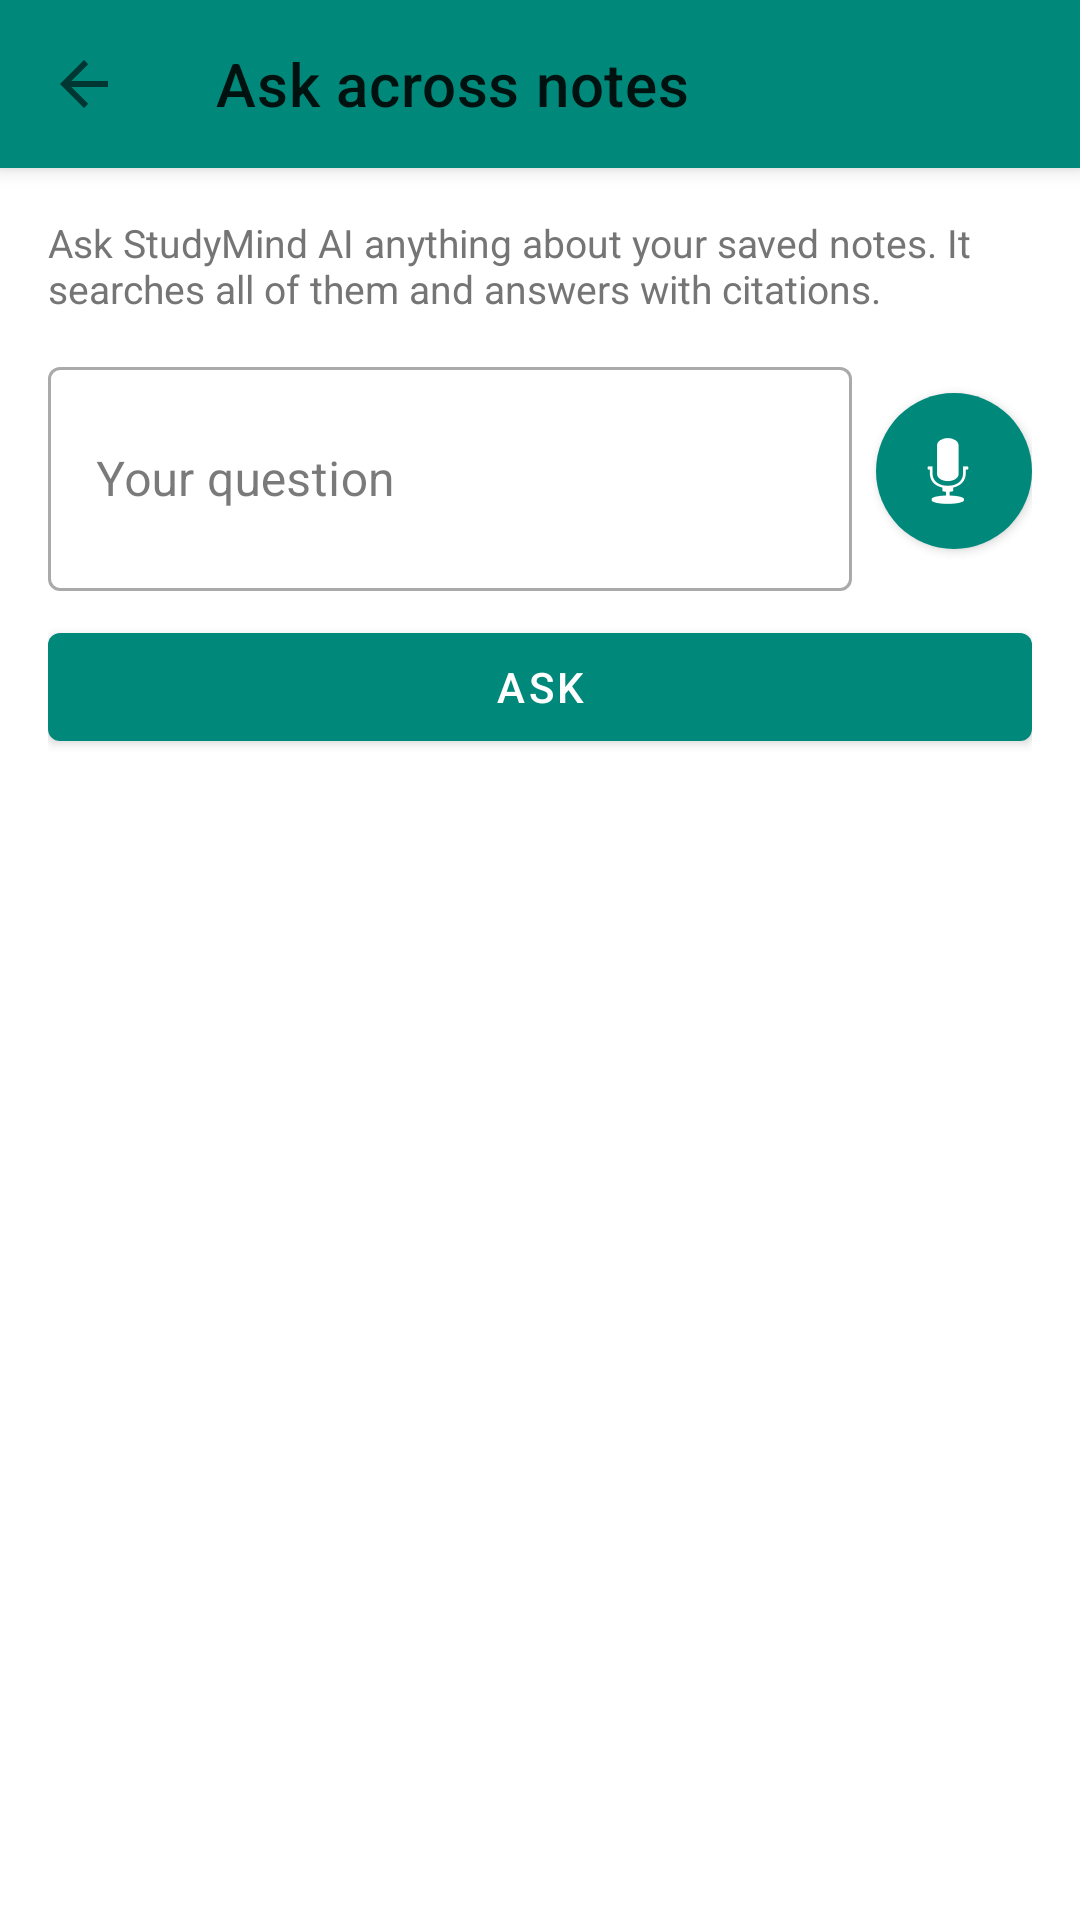

Where icons sit on this 1080x1920 app screen, as (x1, y1, x2, y2):
Ask with voice: (876, 393, 1032, 549)
